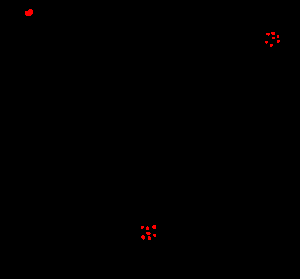Target: (25, 9, 33, 16), (141, 235, 145, 240), (152, 225, 156, 229), (146, 232, 151, 235), (271, 32, 275, 35), (266, 33, 270, 36), (146, 226, 149, 230), (148, 236, 151, 240), (277, 40, 280, 43), (265, 41, 268, 44), (270, 44, 273, 47), (141, 226, 144, 229), (153, 234, 156, 237), (277, 35, 279, 38), (272, 37, 275, 39)
